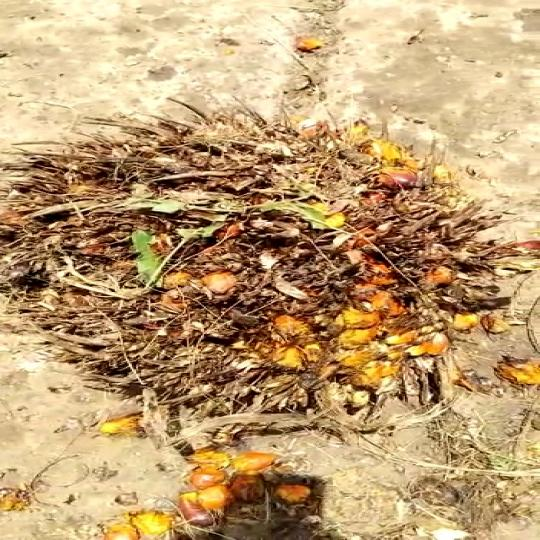terlalu masak: (0, 91, 540, 458)
